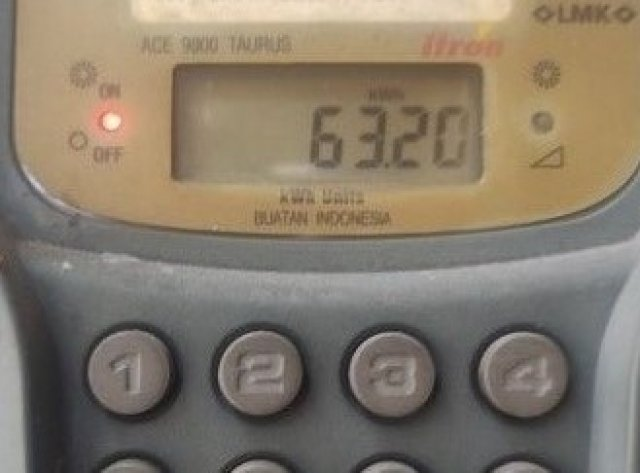box: (172, 63, 483, 185)
